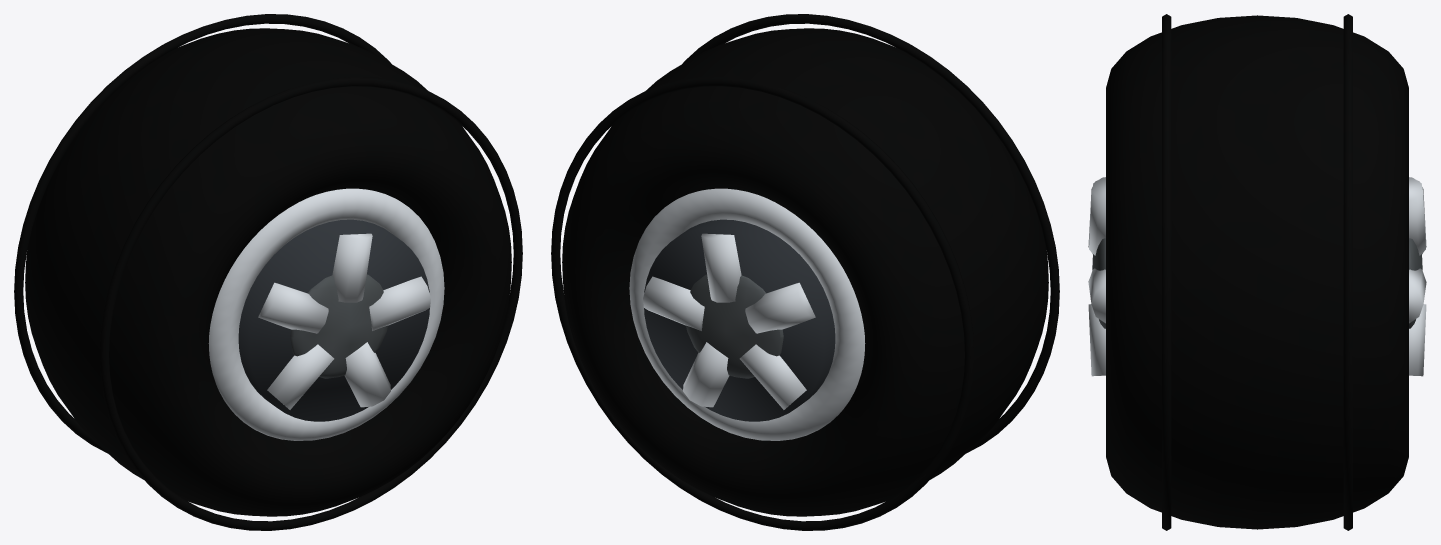
File: SM_V4_WheelRR.fbx
The picture shows the model from 3 angles, left to right: view 1: azimuth 30°, elevation 25°; view 2: azimuth 150°, elevation 25°; view 3: azimuth 270°, elevation 25°; orthographic projection. The views are drawn at different scales.
Parts seen in each view (by area): view 1: SM_V4_WheelRR; view 2: SM_V4_WheelRR; view 3: SM_V4_WheelRR.
Part boxes in pixels (x1,y1,x2,y2): SM_V4_WheelRR: (14,14,522,530); SM_V4_WheelRR: (551,14,1059,530); SM_V4_WheelRR: (1088,14,1426,530).
Size of the model in its own units: 41.88 by 27.36 by 41.88.
